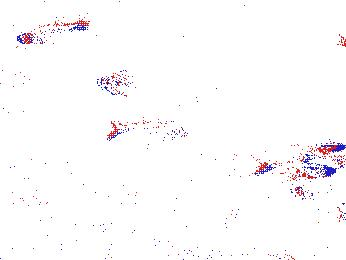X-ray fish: (96, 68, 151, 103)
red belly glassfish: (298, 137, 346, 153), (224, 205, 240, 234)
redtail glassfish: (107, 116, 190, 150), (16, 12, 91, 47), (252, 156, 337, 182), (289, 184, 346, 221)
